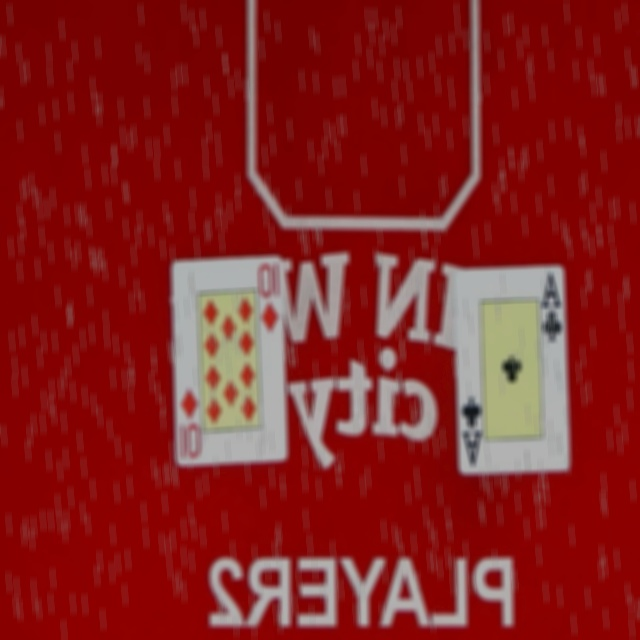10D: (257, 258, 283, 335), (174, 385, 200, 462)
AC: (458, 394, 484, 469), (540, 271, 564, 348)
